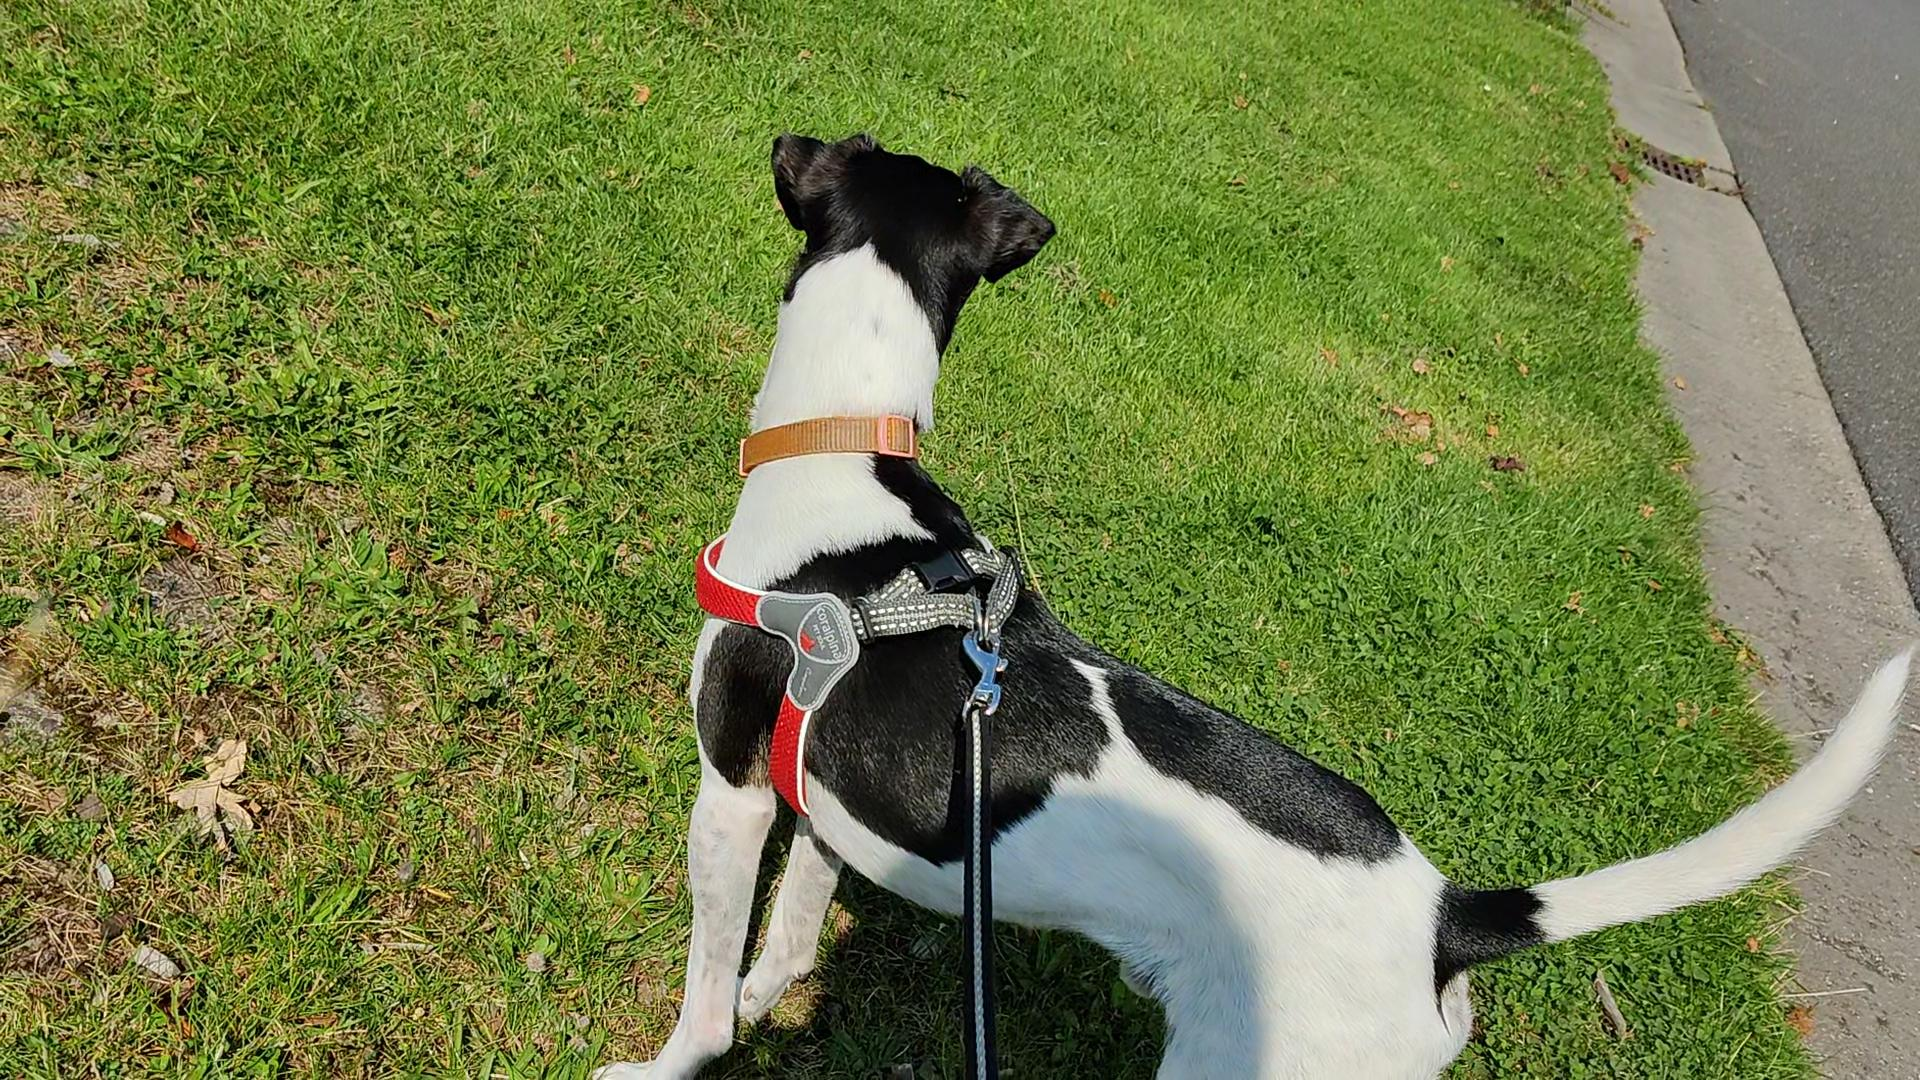Dog: (593, 123, 1919, 1079)
